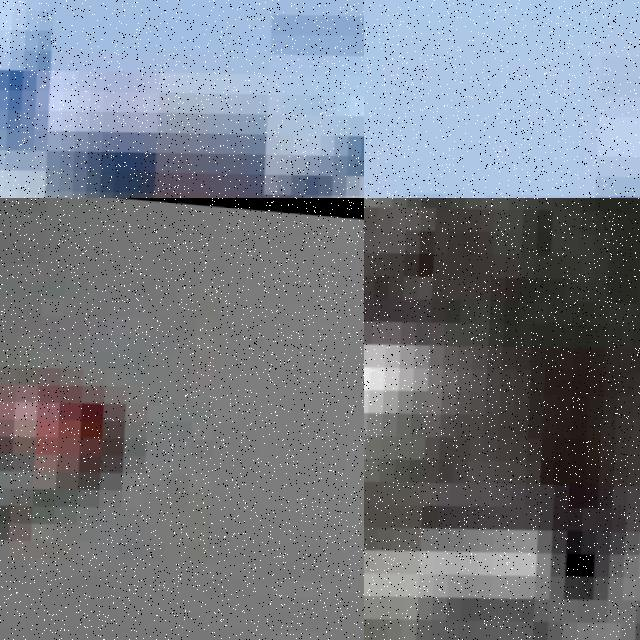0: (0, 0, 364, 198), (364, 0, 640, 198)
drone: (0, 198, 364, 640), (364, 198, 640, 640)
